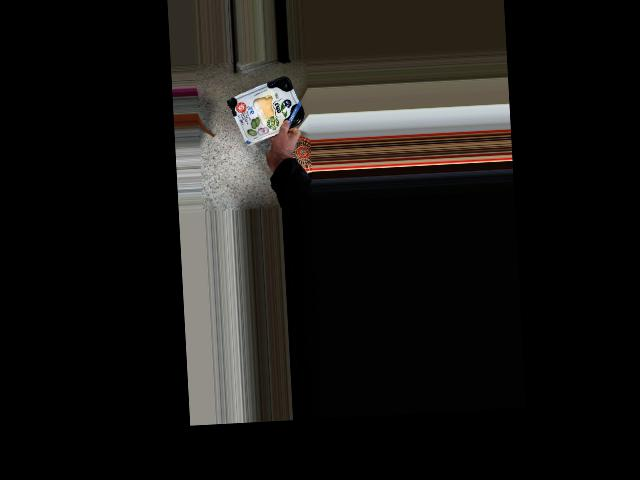cheese: (233, 84, 297, 138)
